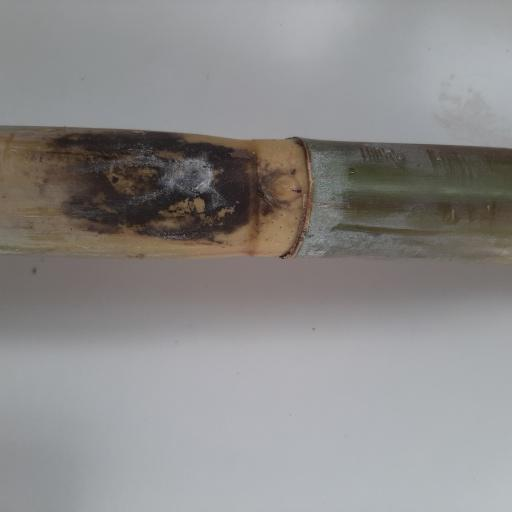Bud: (260, 170, 302, 203)
